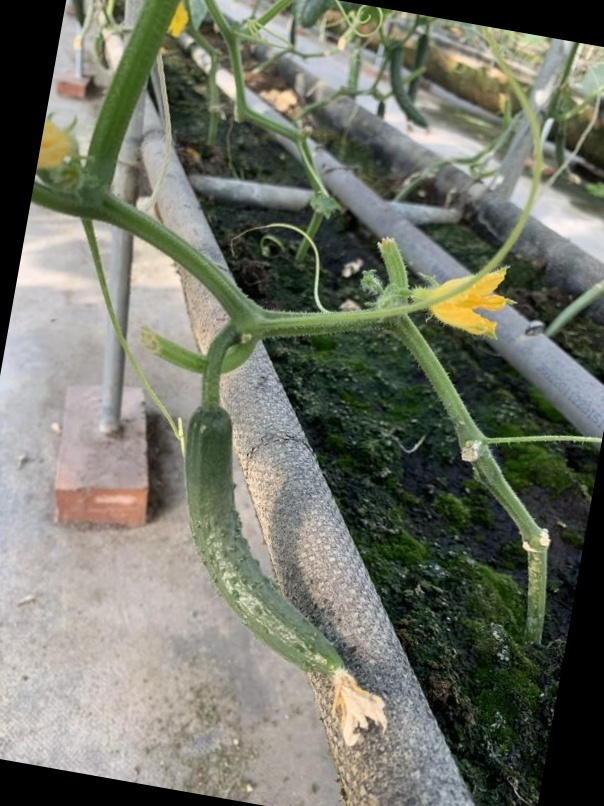bud: (418, 262, 512, 337)
growth: (179, 407, 360, 704)
